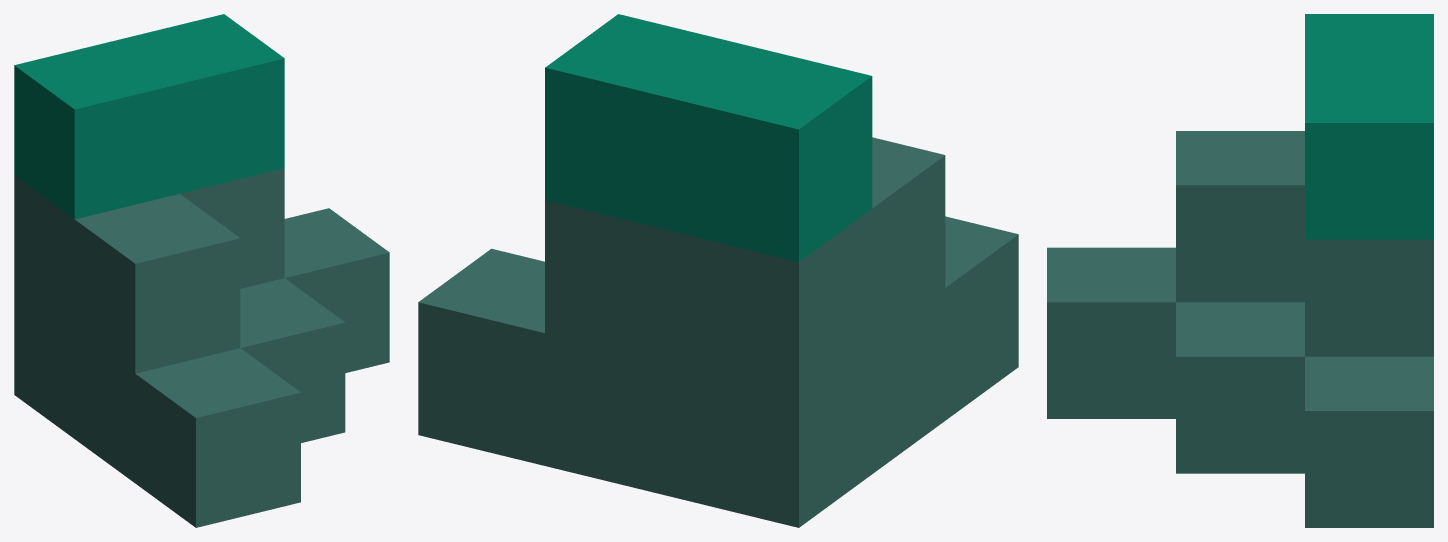
The model's file is treechunk1.obj.
The picture shows the model from 3 angles, left to right: view 1: azimuth 30°, elevation 25°; view 2: azimuth 150°, elevation 25°; view 3: azimuth 270°, elevation 25°; orthographic projection. The views are drawn at different scales.
Size of the model in its own units: 0.3 by 0.3 by 0.3.
1 material, 1 textured.
